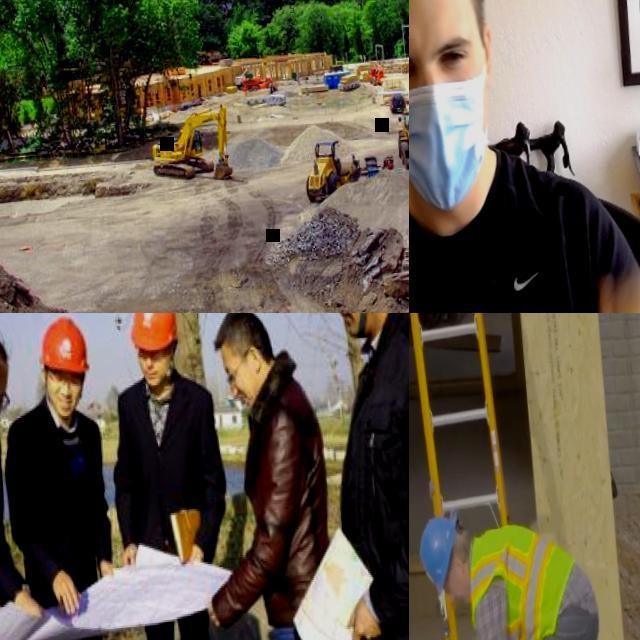helmet: (414, 508, 466, 602), (35, 315, 91, 378), (127, 313, 180, 353)
vest: (464, 519, 581, 640)
